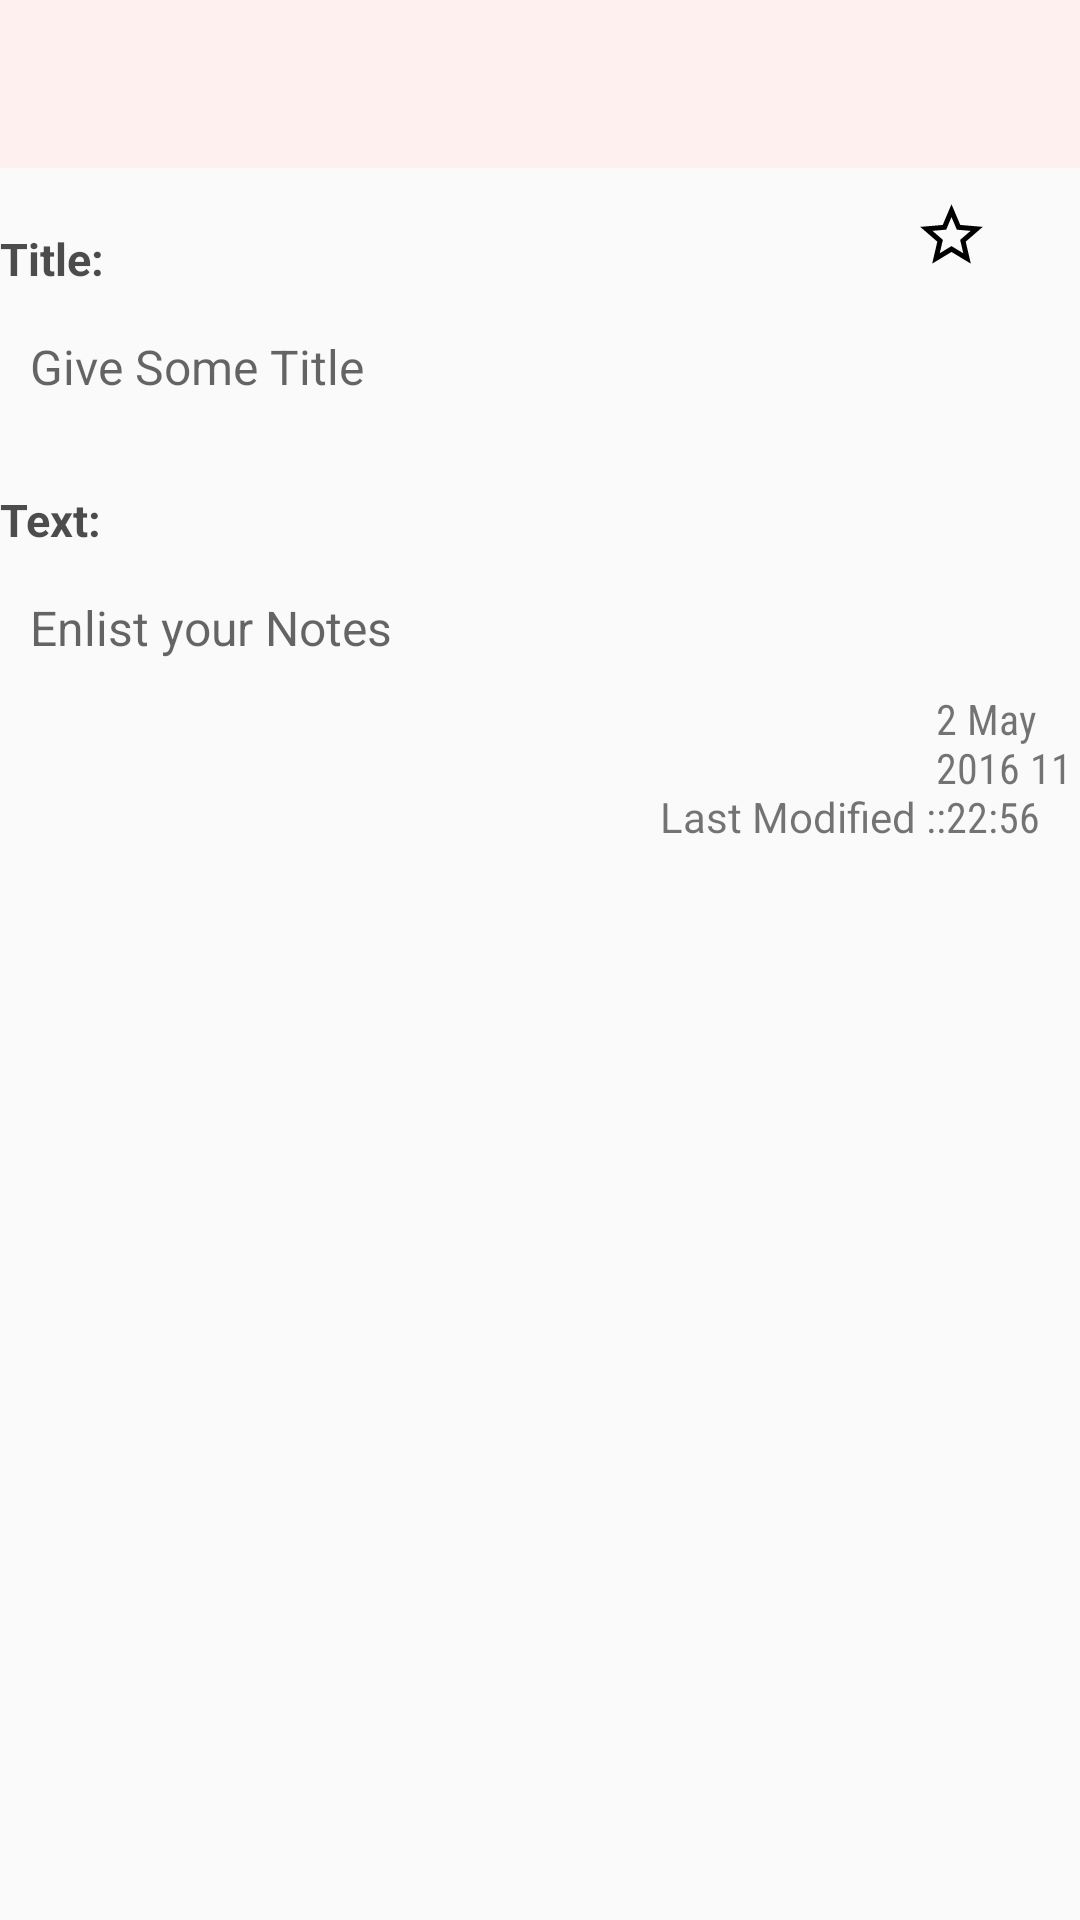

Icons on this 1080*1920 Android screen, each with the point to tap as (x=x, y=y):
star border: (x=951, y=234)
